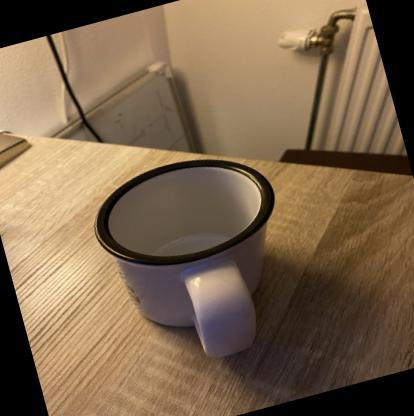Cup: (78, 137, 314, 387)
